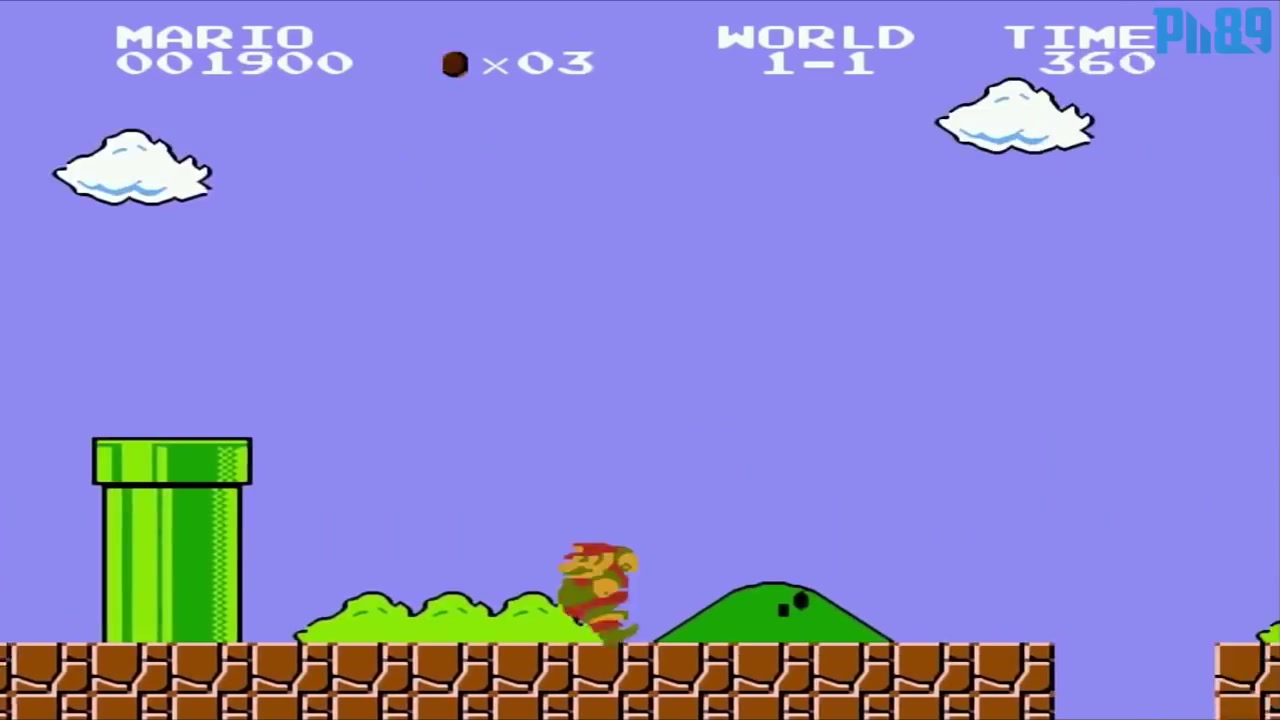mario: (547, 534, 645, 643)
